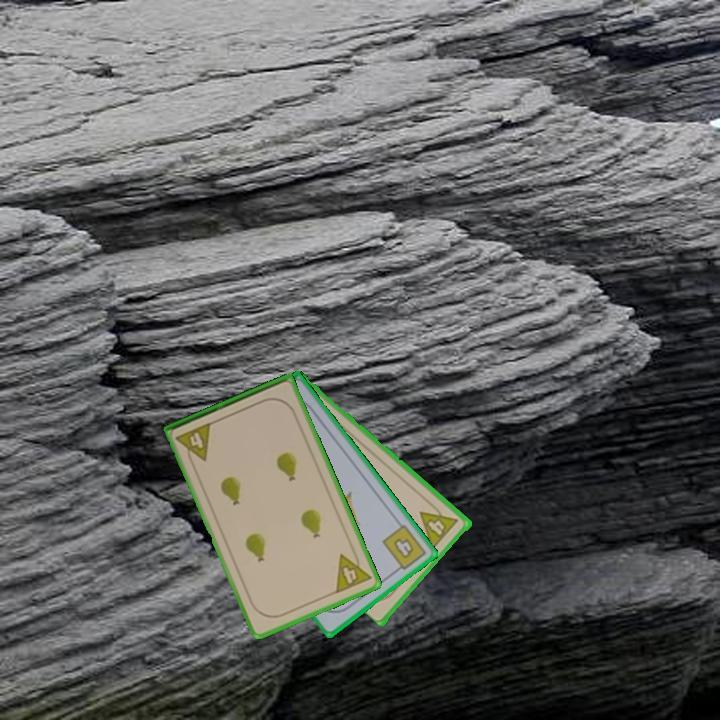4b: (379, 521, 429, 576)
4p: (417, 499, 462, 551), (172, 419, 215, 468), (332, 546, 374, 596)
